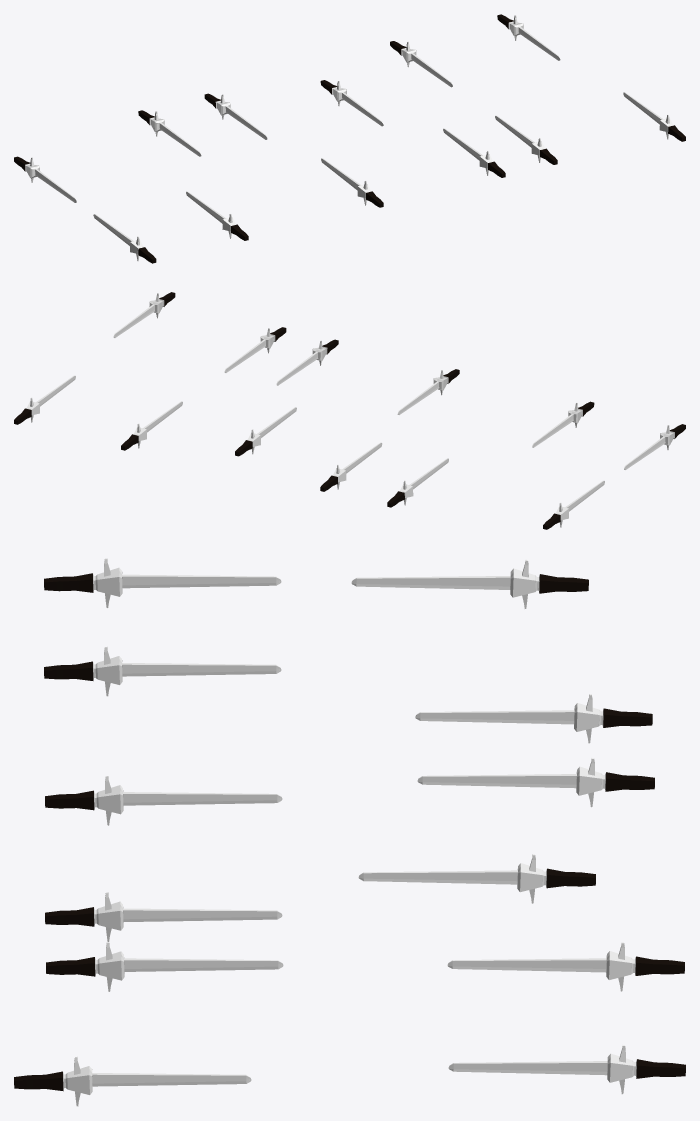
Rendered from Sword Traps.fbx.
3 renders of one model, top to bottom at view 1: azimuth 30°, elevation 25°; view 2: azimuth 150°, elevation 25°; view 3: azimuth 270°, elevation 25°, orthographic. The views are drawn at different scales.
Parts seen in each view (by area): view 1: Cube.005, Cube.006, Cube.009, Cube.002, Cube.010, Cube.001, Cube.007, Cube.008, Cube.011, Cube.003, Cube.004, Cube.012; view 2: Cube.008, Cube.004, Cube.003, Cube.011, Cube.007, Cube.012, Cube.005, Cube.001, Cube.002, Cube.006, Cube.009, Cube.010; view 3: Cube.004, Cube.011, Cube.003, Cube.007, Cube.006, Cube.008, Cube.012, Cube.001, Cube.009, Cube.002, Cube.010, Cube.005.
Boxes of the visible parts, x1,y1,x2,y2 form: Cube.005: (443, 128, 505, 177); Cube.006: (321, 158, 383, 207); Cube.009: (186, 191, 248, 240); Cube.002: (495, 115, 557, 164); Cube.010: (93, 214, 156, 263); Cube.001: (623, 92, 685, 141); Cube.007: (497, 14, 560, 60); Cube.008: (204, 93, 267, 139); Cube.011: (138, 110, 201, 156); Cube.003: (390, 41, 452, 87); Cube.004: (320, 80, 383, 126); Cube.012: (14, 156, 76, 202); Cube.008: (320, 442, 382, 491); Cube.004: (235, 407, 296, 456); Cube.003: (121, 401, 182, 450); Cube.011: (387, 458, 448, 507); Cube.007: (14, 375, 75, 424); Cube.012: (543, 480, 604, 529); Cube.005: (276, 339, 338, 385); Cube.001: (113, 292, 175, 337); Cube.002: (224, 327, 286, 372); Cube.006: (397, 369, 459, 414); Cube.009: (532, 401, 594, 447); Cube.010: (624, 424, 685, 469); Cube.004: (358, 854, 595, 903); Cube.011: (415, 694, 652, 743); Cube.003: (447, 942, 684, 991); Cube.007: (448, 1044, 685, 1094); Cube.006: (45, 776, 282, 825); Cube.008: (417, 757, 654, 807); Cube.012: (351, 559, 588, 608); Cube.001: (14, 1056, 251, 1106); Cube.009: (44, 646, 281, 696); Cube.002: (46, 942, 283, 991); Cube.010: (44, 558, 281, 607); Cube.005: (45, 892, 282, 941).
Size of the model in its own units: 3506 by 158 by 1961.
